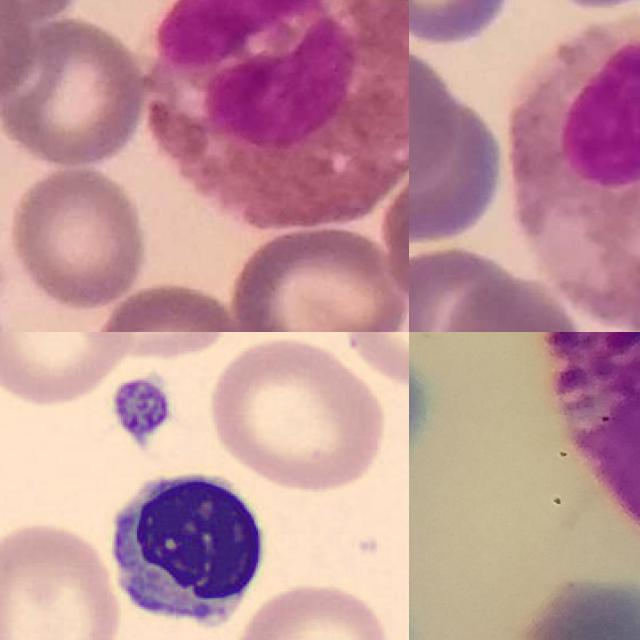Basophil: (549, 332, 640, 557)
Eosinophil: (142, 0, 409, 235), (508, 10, 640, 332)
Lymphocyte: (100, 461, 276, 637)
Platelets: (112, 371, 167, 444)
RBC: (203, 332, 391, 496), (0, 515, 124, 640), (227, 577, 394, 640), (0, 332, 135, 405), (53, 584, 225, 640), (55, 332, 234, 365), (336, 332, 409, 388)
